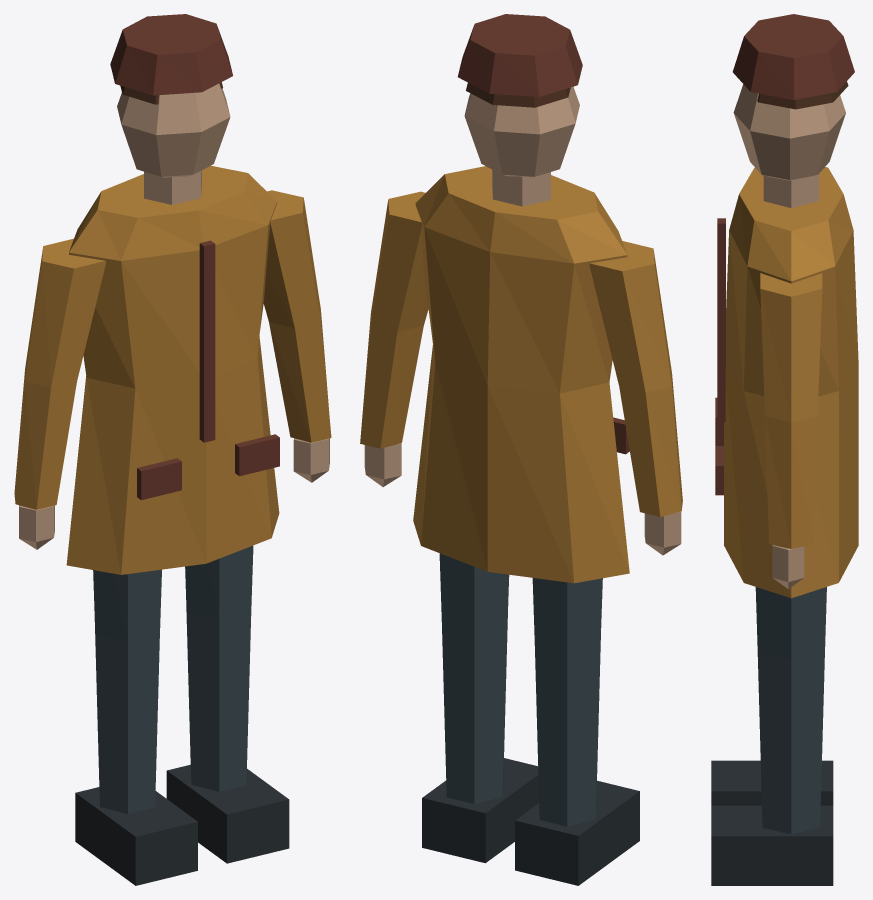
The model's file is pedestrian-raincoat.lod0.glb.
The picture shows the model from 3 angles, left to right: view 1: azimuth 30°, elevation 25°; view 2: azimuth 150°, elevation 25°; view 3: azimuth 270°, elevation 25°; orthographic projection.
Visible parts, largest first — view 1: pedestrian-body; view 2: pedestrian-body; view 3: pedestrian-body.
Boxes of the visible parts, bbox=[...] form: pedestrian-body: bbox=[14, 14, 331, 885]; pedestrian-body: bbox=[360, 14, 682, 885]; pedestrian-body: bbox=[711, 14, 858, 885].
Size of the model in its own units: 0.6854 by 1.67 by 0.2742.
